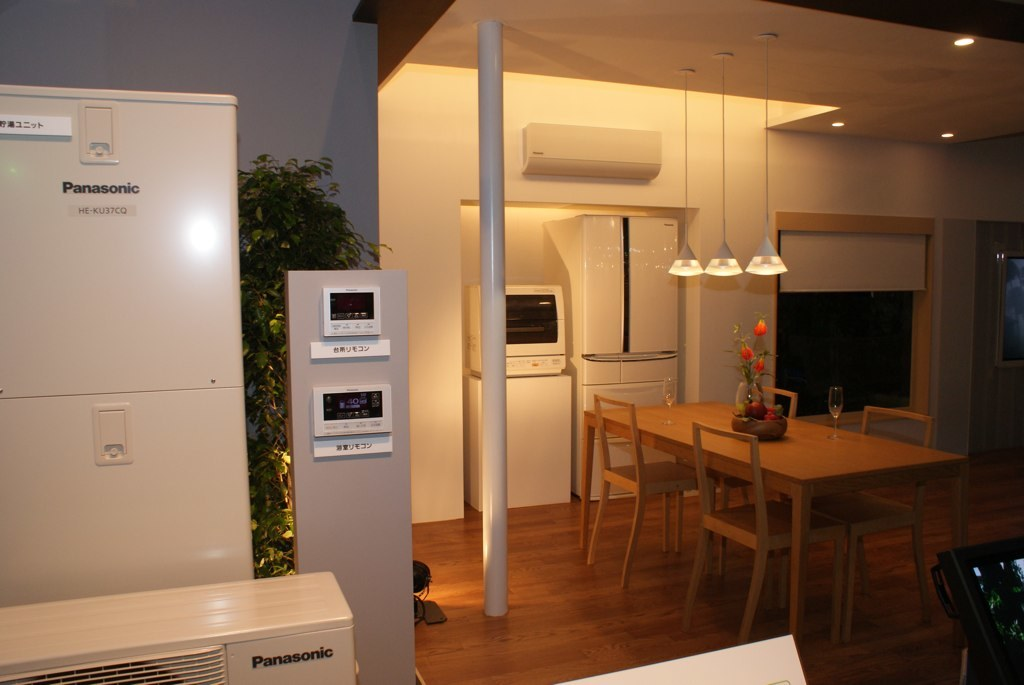Refrigerator: (0, 69, 248, 601), (540, 215, 679, 503)
